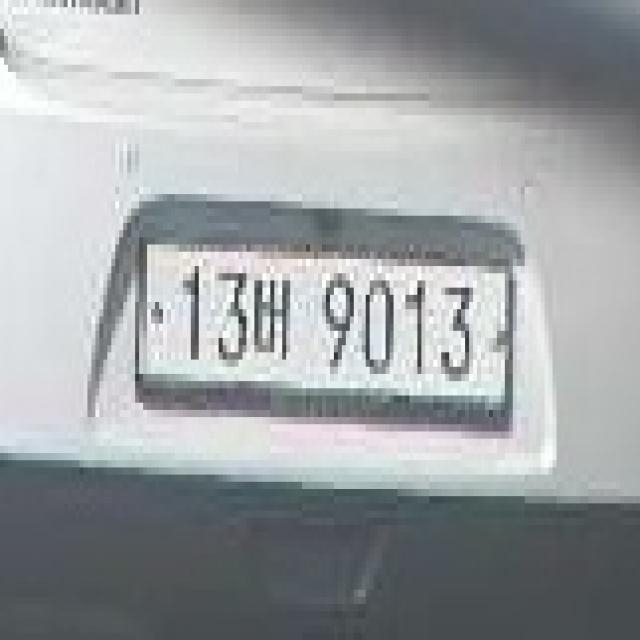0: (362, 273, 402, 403)
1: (402, 266, 438, 410), (171, 252, 207, 381)
3: (210, 259, 250, 381), (441, 274, 481, 396)
9: (310, 259, 358, 410)
beo: (251, 259, 294, 381)
license_plate: (127, 223, 521, 446)
